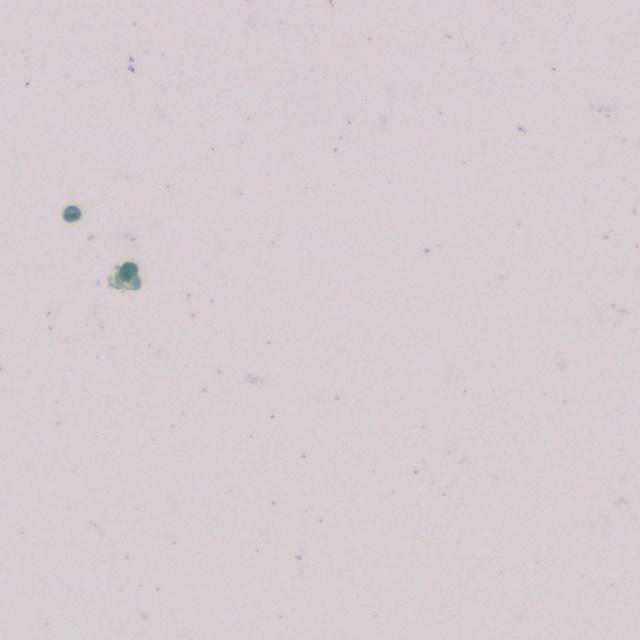non_viable: (116, 262, 137, 283), (63, 205, 80, 222)
